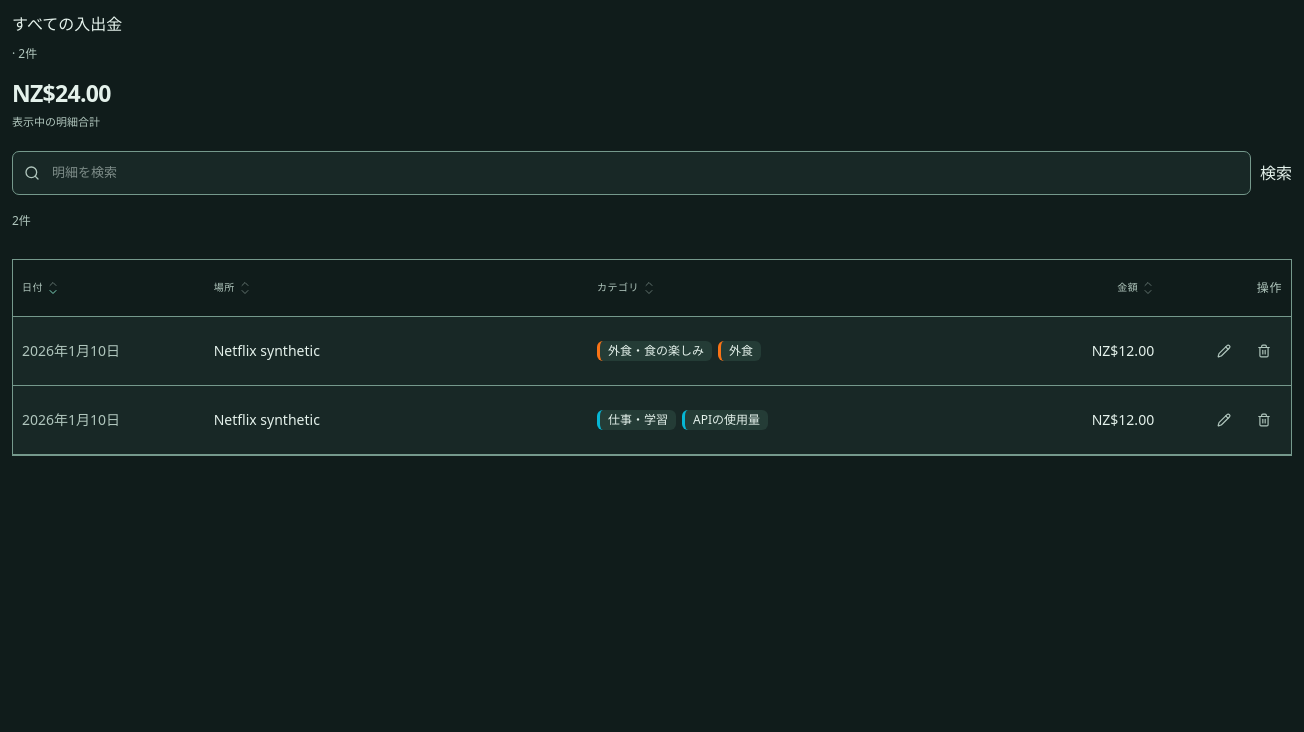
Test case: offers one stable current option per purpose and no equivalent historical options in ja
Click the button without text in the row of "外食・食の楽しみ": x=1224, y=351 [1206,329,1242,373]
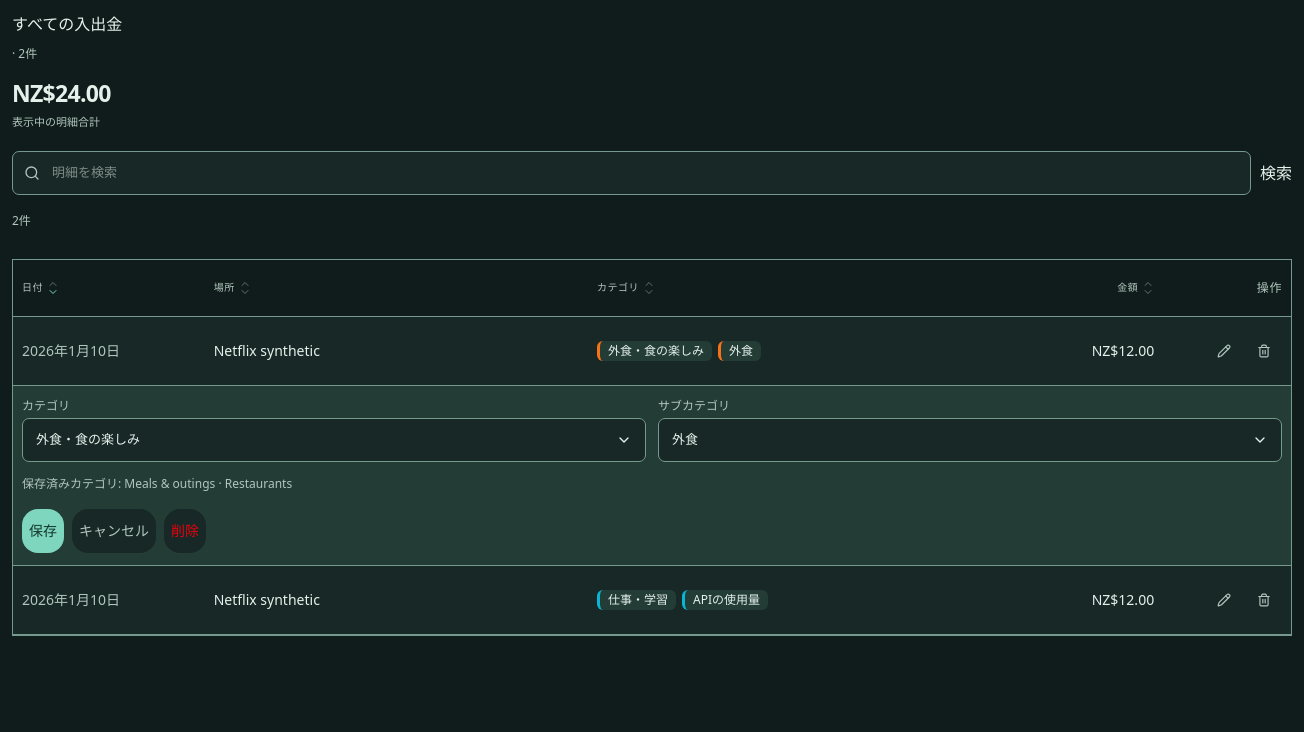
expect the dropdown labelled "カテゴリ" shows "外食・食の楽しみ": met, box [22,418,646,462]
expect the dropdown labelled "サブカテゴリ" shows "外食": met, box [658,418,1282,462]
expect the text "保存済みカテゴリ" is shown: met, box [22,475,118,492]
